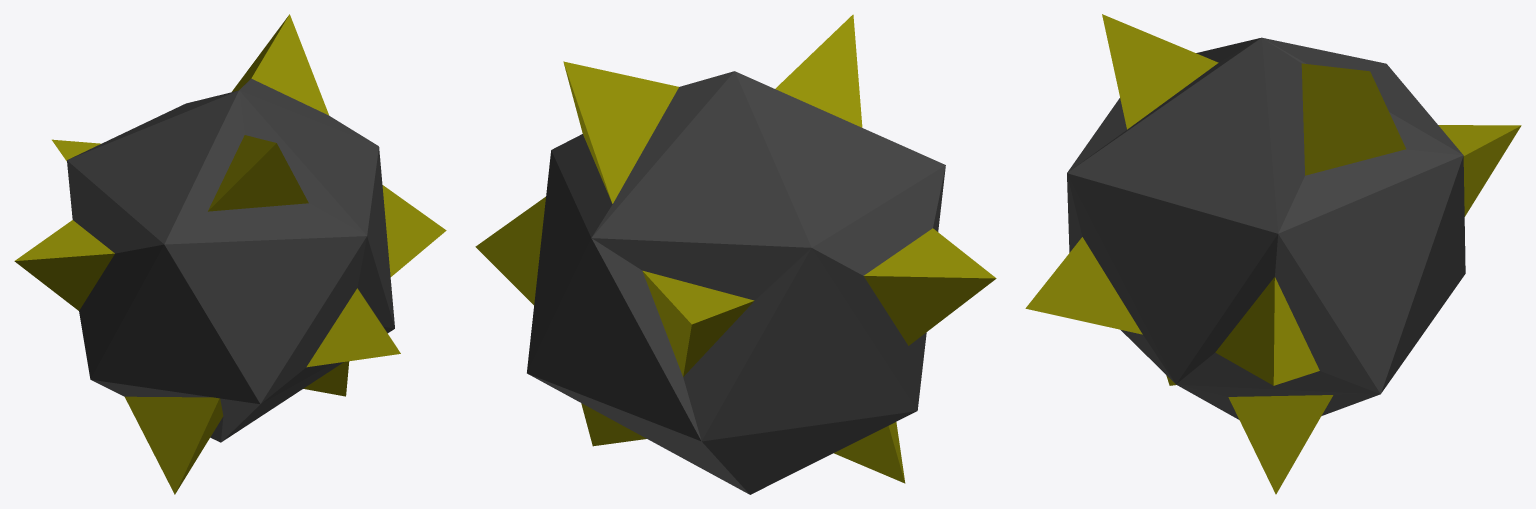
File: Ore.fbx
3 views of the same model, side by side, from view 1: azimuth 30°, elevation 25°; view 2: azimuth 150°, elevation 25°; view 3: azimuth 270°, elevation 25° (orthographic). The views are drawn at different scales.
Visible parts, largest first — view 1: Rock1; view 2: Rock1; view 3: Rock1.
Boxes of the visible parts, box(x1,y1,x2,y2) form: Rock1: box(14, 14, 446, 494); Rock1: box(475, 14, 996, 494); Rock1: box(1025, 14, 1521, 494).
Size of the model in its own units: 45.86 by 37.14 by 38.96.
